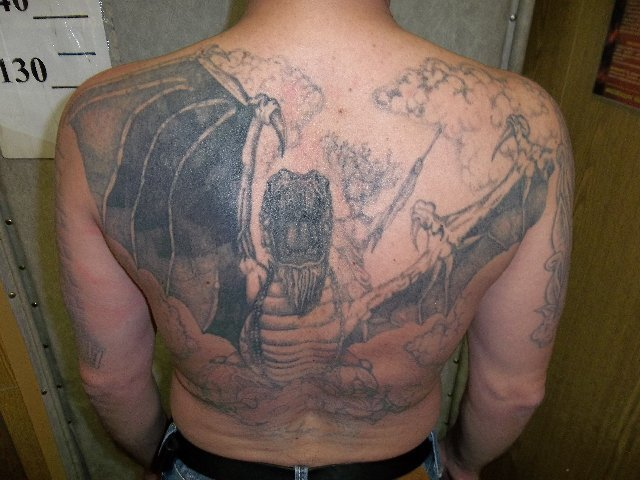tatu6_drakon: (60, 37, 613, 447)
